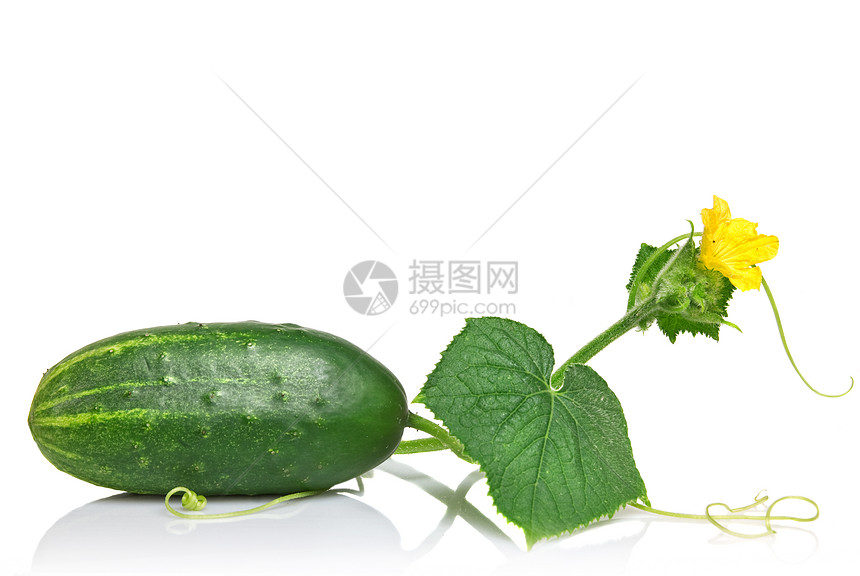cucumber: (27, 326, 411, 498)
cucumber_plant: (415, 176, 792, 537)
